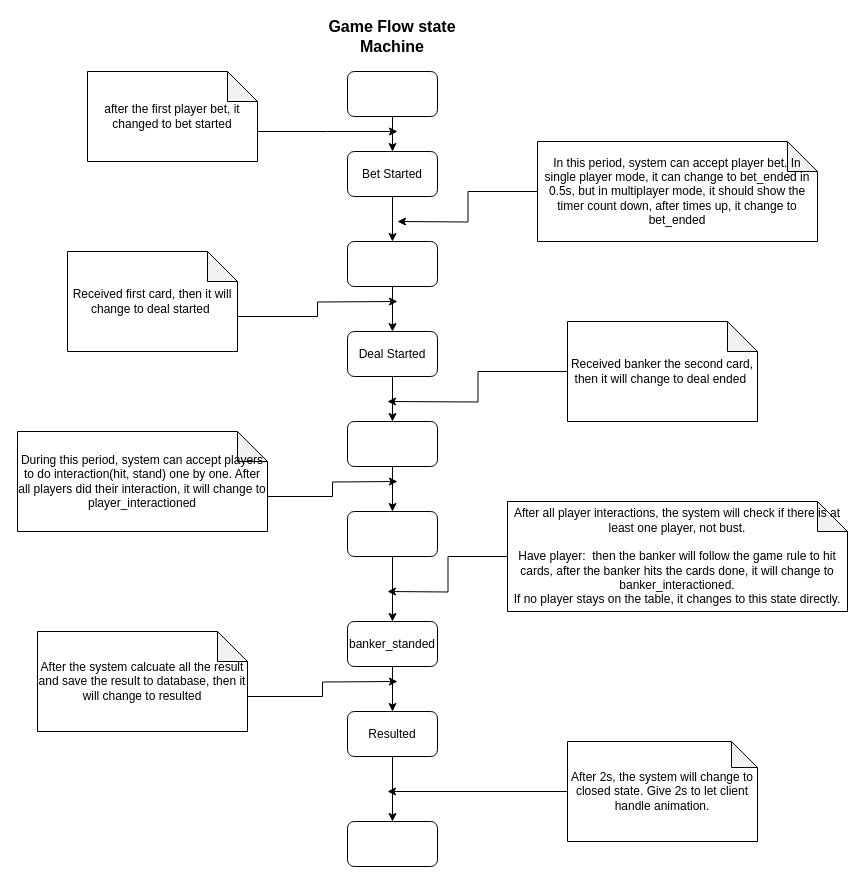
Image size: 865x884. Some labels were removed from this diagram. The centre of each missing label's shape, as x and y in pixels:
Bet Ended: pixel 392 263
Closed: pixel 392 843
Deal Endend: pixel 392 443
Opened: pixel 392 93
players_standed: pixel 392 533
